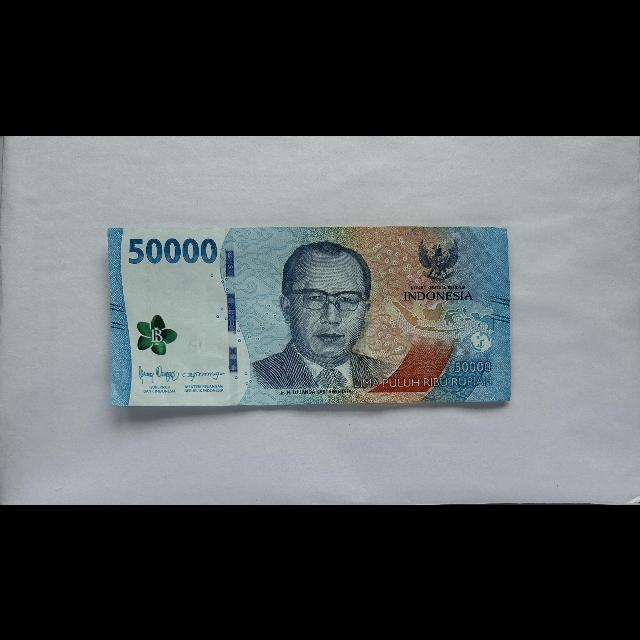Asli-50k: (106, 224, 512, 409)
Tinta-Asli-50k: (136, 313, 179, 356)
